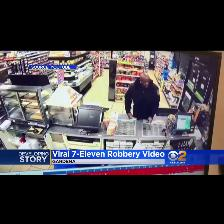person: (125, 73, 160, 121)
